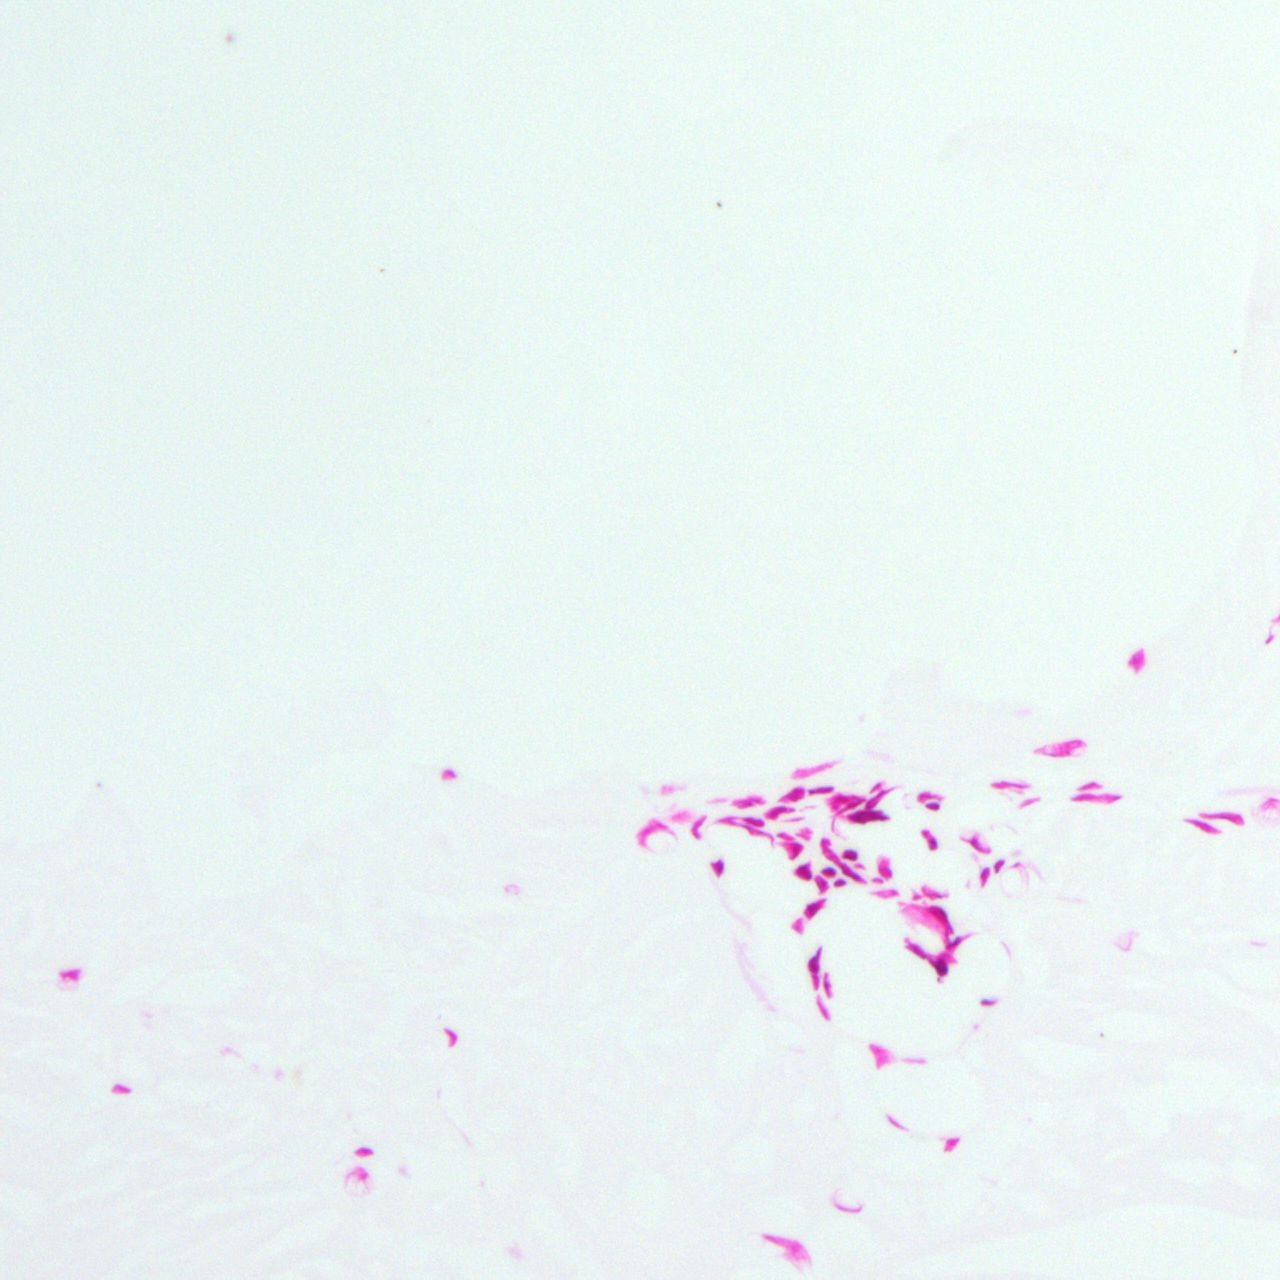dust: (225, 32, 233, 41), (715, 200, 722, 207)
nucleus-FG: (817, 843, 863, 884), (1182, 813, 1223, 839), (926, 945, 958, 978), (1198, 806, 1244, 826), (805, 944, 822, 990), (801, 896, 829, 920), (779, 836, 804, 862), (849, 809, 888, 823), (904, 938, 928, 960), (792, 860, 816, 883), (813, 994, 831, 1022), (920, 826, 940, 851), (731, 795, 764, 808), (1071, 794, 1121, 802), (765, 806, 794, 821), (59, 967, 82, 982), (779, 787, 804, 801), (740, 813, 764, 828), (813, 872, 830, 893), (822, 971, 832, 998), (978, 865, 990, 886), (1076, 781, 1099, 791), (990, 856, 1005, 873), (842, 847, 858, 860), (712, 858, 723, 876), (809, 785, 833, 794), (111, 1083, 130, 1092), (355, 1148, 372, 1156), (442, 769, 456, 778), (926, 802, 939, 810), (822, 867, 835, 876), (835, 878, 845, 886)
